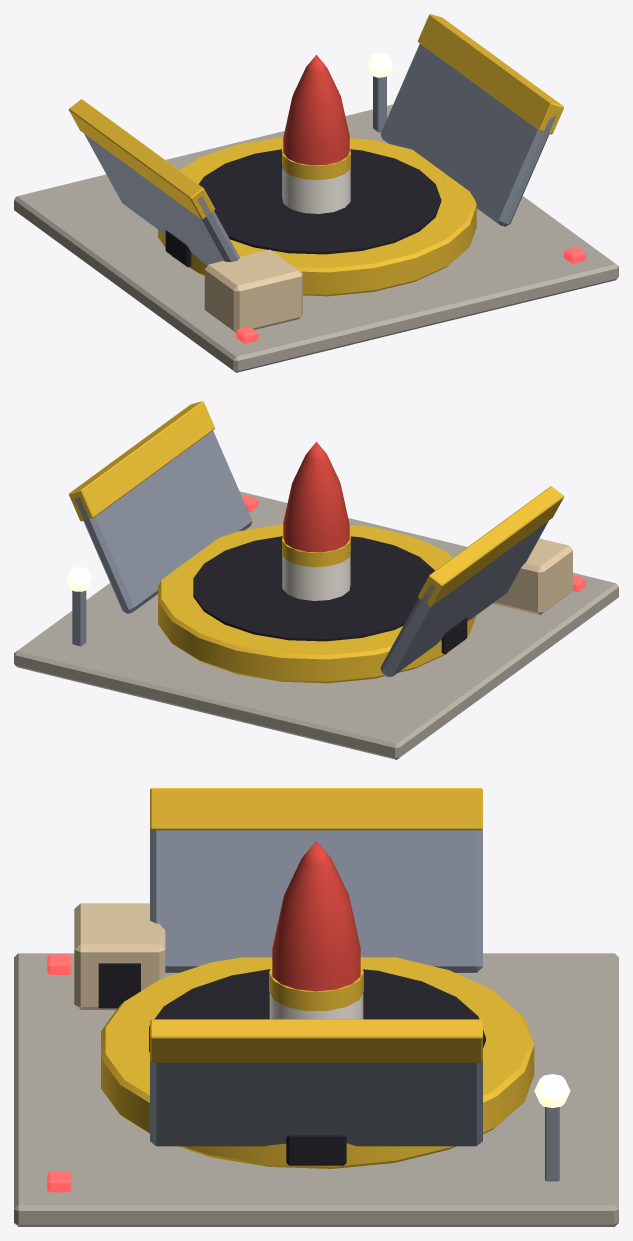
File: missile_silo.glb
The picture shows the model from 3 angles, top to bottom: view 1: azimuth 30°, elevation 25°; view 2: azimuth 150°, elevation 25°; view 3: azimuth 270°, elevation 25°; orthographic projection. The views are drawn at different scales.
Visible parts, largest first — view 1: missile_silo; view 2: missile_silo; view 3: missile_silo.
Boxes of the visible parts, x1,y1,x2,y2 form: missile_silo: (14, 14, 618, 372); missile_silo: (14, 401, 618, 759); missile_silo: (14, 788, 618, 1226).
Size of the model in its own units: 20 by 9.5 by 20.
Materials: 1 (1 with a texture image).
